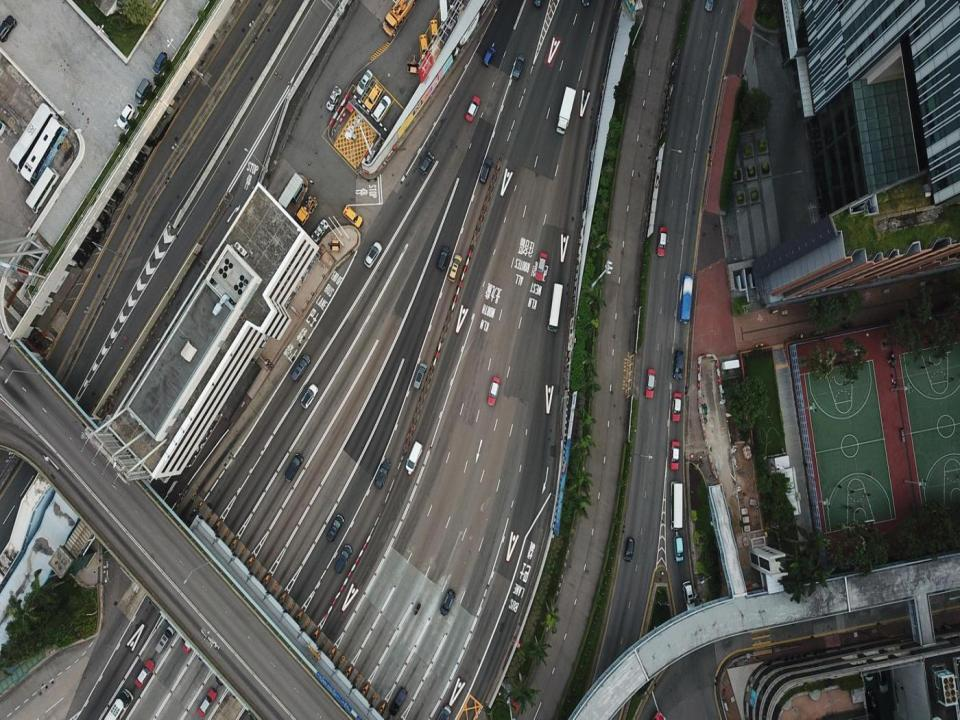bus: (7, 102, 58, 173), (20, 117, 68, 187), (25, 165, 60, 214), (103, 688, 134, 719), (546, 282, 563, 332), (678, 275, 692, 324), (670, 481, 683, 531)
car: (134, 658, 154, 688), (374, 458, 392, 490), (197, 687, 216, 716), (117, 102, 135, 130), (363, 242, 382, 268), (465, 95, 481, 122), (356, 69, 372, 96), (326, 85, 342, 111), (310, 218, 328, 241), (682, 581, 695, 612), (487, 376, 500, 406), (644, 368, 656, 398), (535, 253, 547, 282), (656, 226, 667, 256), (512, 54, 525, 79), (671, 393, 681, 421), (670, 439, 679, 470), (482, 45, 495, 66), (862, 658, 873, 682), (434, 704, 451, 719), (624, 537, 634, 562), (704, 0, 715, 11), (450, 0, 456, 11)
truck: (383, 0, 417, 37), (556, 86, 576, 135), (296, 195, 318, 224)
van: (154, 624, 175, 653), (290, 354, 311, 382), (284, 453, 303, 482), (182, 623, 200, 653), (389, 686, 407, 716), (334, 544, 352, 574), (372, 95, 391, 122), (406, 440, 422, 472), (365, 82, 382, 112), (326, 513, 344, 541), (342, 204, 363, 228), (300, 383, 318, 409), (440, 588, 456, 617), (134, 79, 152, 104), (0, 15, 16, 42), (152, 51, 168, 76), (877, 662, 889, 694), (479, 157, 493, 184), (448, 254, 462, 281), (868, 690, 881, 719), (419, 152, 435, 174), (413, 363, 426, 390), (672, 350, 684, 379), (436, 247, 450, 271), (429, 18, 440, 48), (419, 33, 429, 61), (673, 535, 683, 562), (439, 0, 448, 29)
